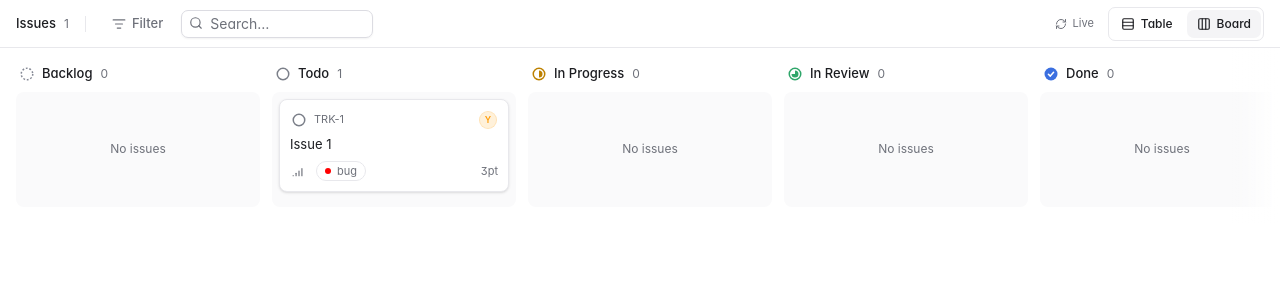
inline edit on board cards › shows the conflict notice on the board
The width and height of the screenshot is (1280, 290).
Click the button named "Change assignee of TRK-1" at (488, 120), box x1=478 y1=110 x2=498 y2=130
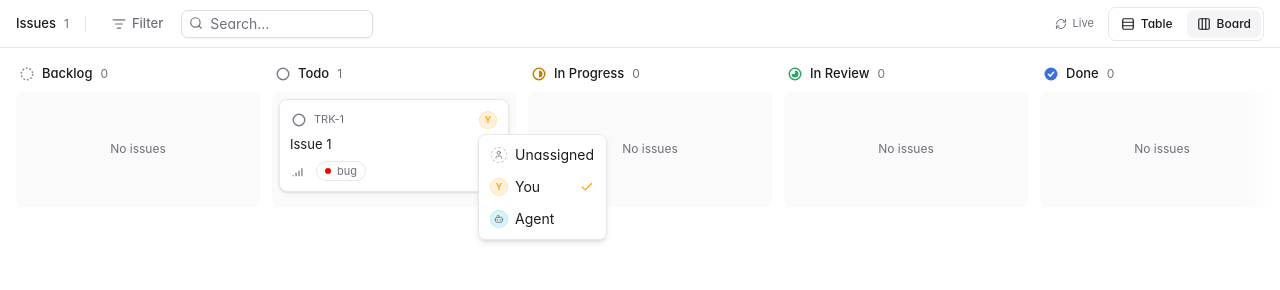
Click the menu item "Agent" at (523, 218), box x1=491 y1=210 x2=554 y2=227
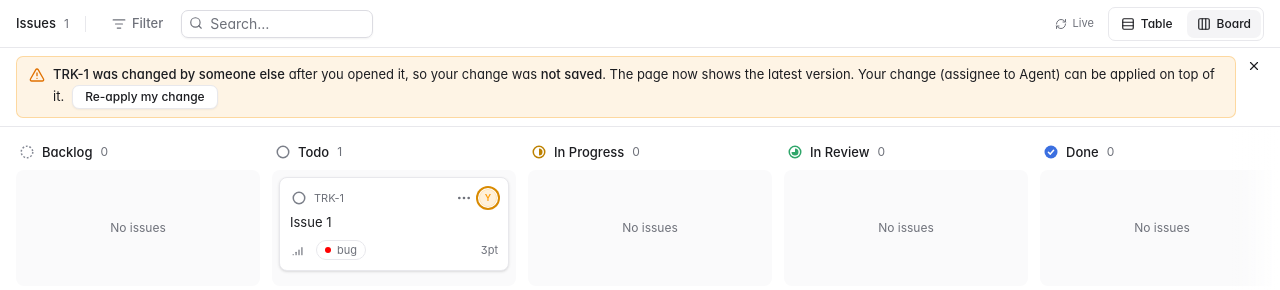
Expected: the message shows "TRK-1 was changed by someone else", x1=16 y1=56 x2=1236 y2=118
